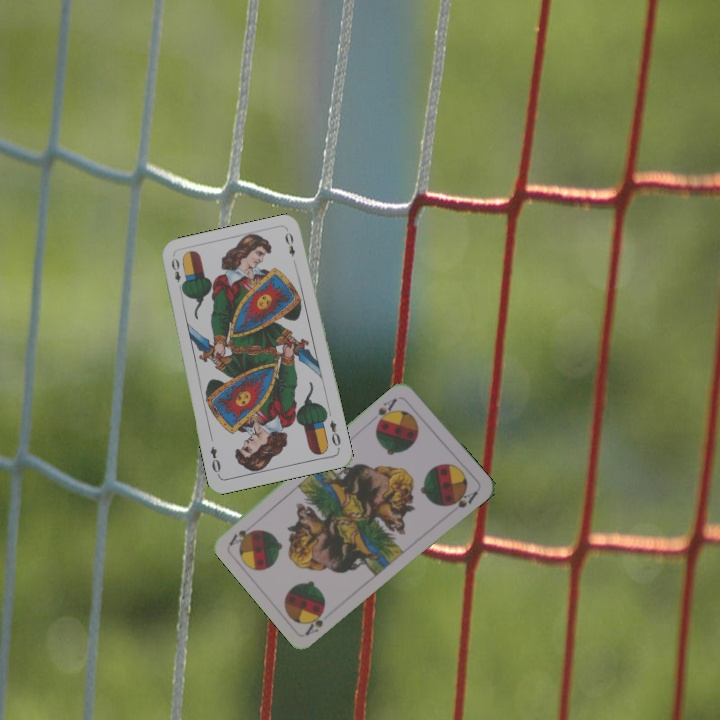EO: (167, 254, 186, 294), (326, 416, 343, 452)
SA: (373, 394, 400, 427), (301, 605, 328, 638)
